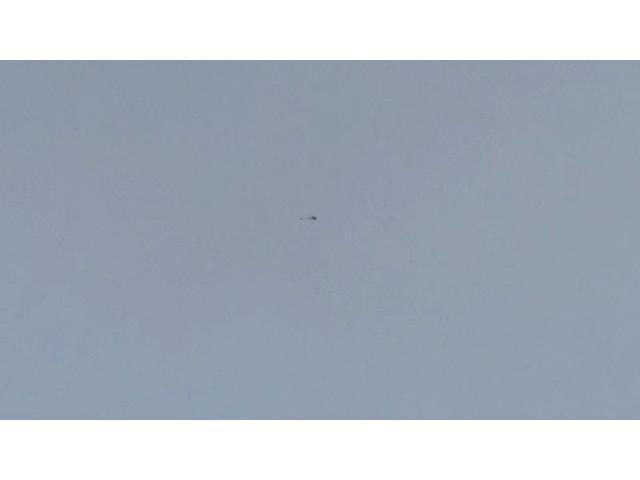Anti-Drone: (298, 214, 320, 223)
